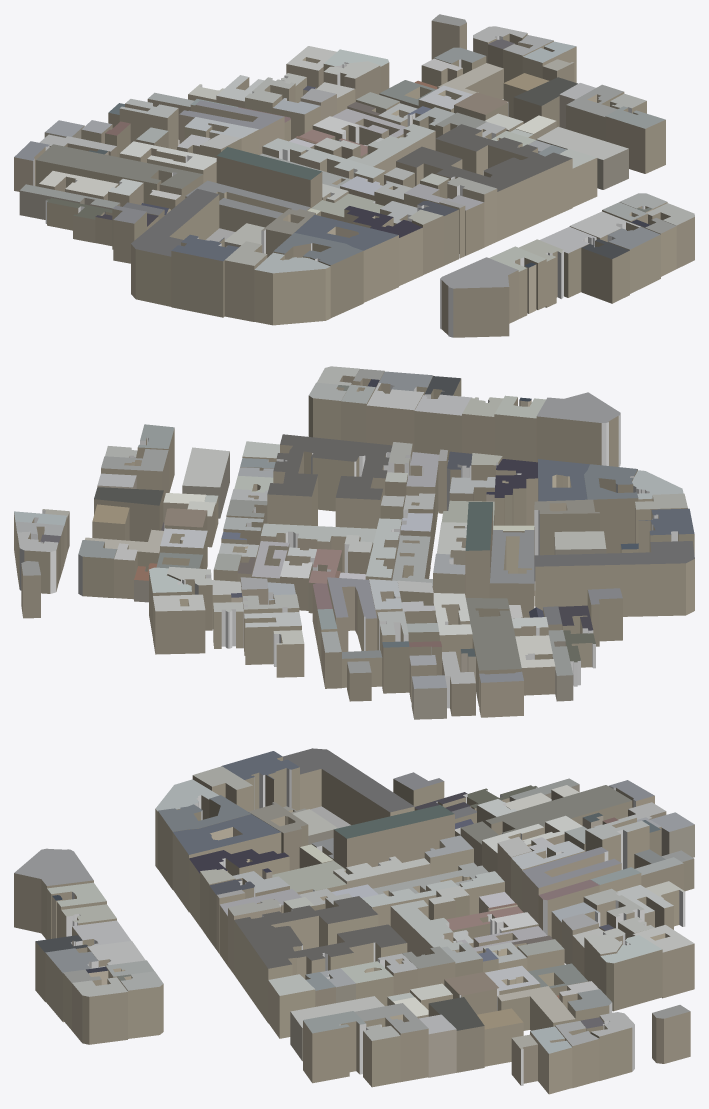
The picture shows the model from 3 angles, top to bottom: view 1: azimuth 30°, elevation 25°; view 2: azimuth 150°, elevation 25°; view 3: azimuth 270°, elevation 25°; orthographic projection. The views are drawn at different scales.
Parts seen in each view (by area): view 1: tuile; view 2: tuile; view 3: tuile.
Boxes of the visible parts, box(x1,y1,x2,y2) form: tuile: box(14, 14, 694, 337); tuile: box(14, 366, 694, 719); tuile: box(14, 748, 694, 1094).
Bounding box in the file's own units: 271 × 32.53 × 264.
